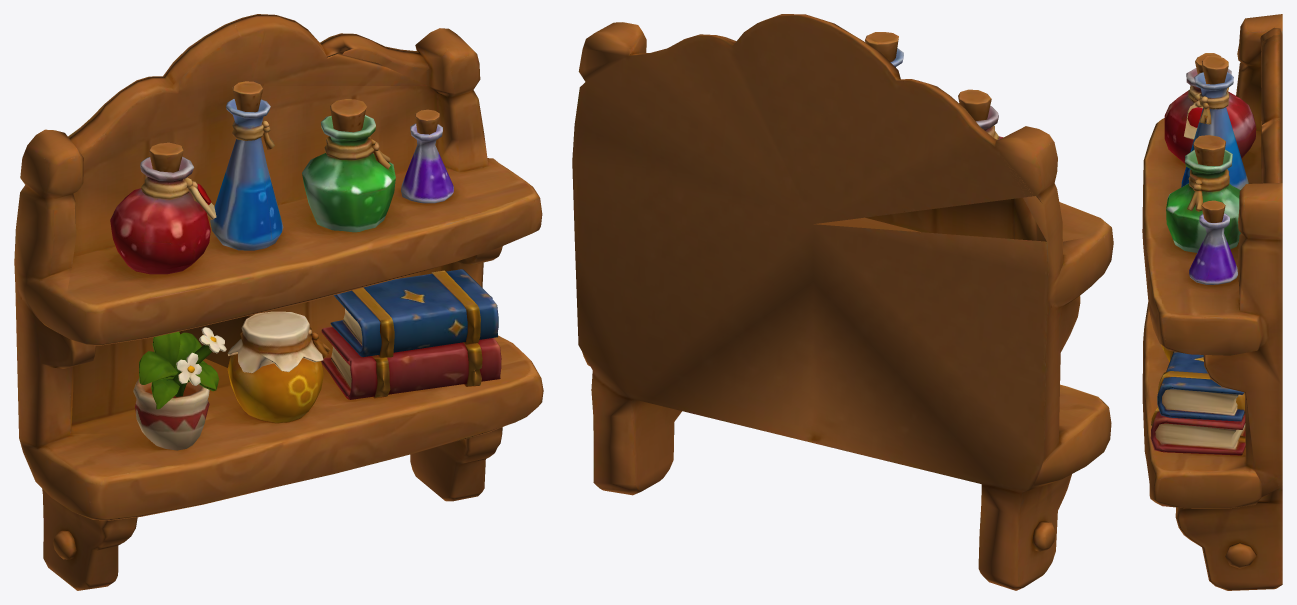
File: etagere.glb
The picture shows the model from 3 angles, left to right: view 1: azimuth 30°, elevation 25°; view 2: azimuth 150°, elevation 25°; view 3: azimuth 270°, elevation 25°; orthographic projection. The views are drawn at different scales.
Parts seen in each view (by area): view 1: geometry_0; view 2: geometry_0; view 3: geometry_0.
Part boxes in pixels (bbox=[...]): geometry_0: bbox=[14, 14, 543, 590]; geometry_0: bbox=[572, 14, 1113, 590]; geometry_0: bbox=[1142, 14, 1282, 590].
Bounding box in the file's own units: 0.9268 × 0.9521 × 0.2632.
1 material, 1 textured.
